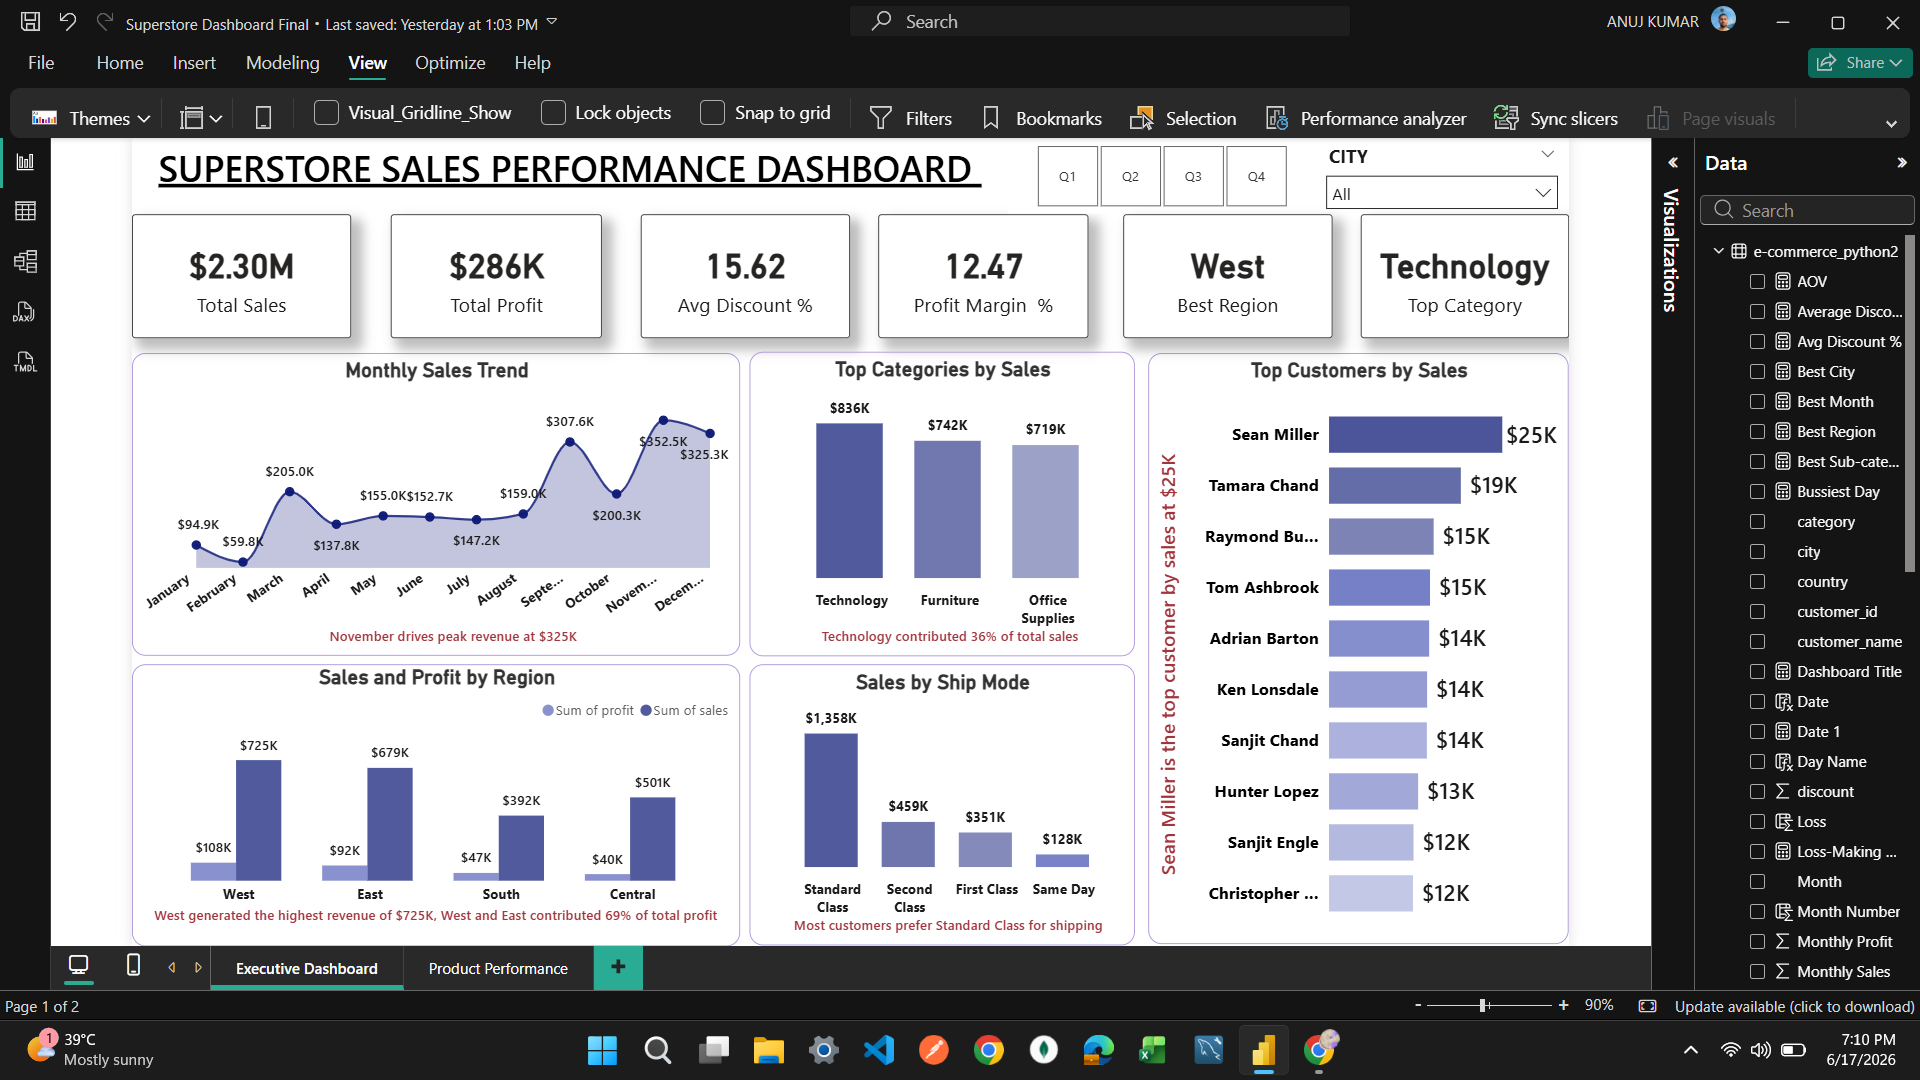

The dashboard page shown, as its layout file describes it:
{"tool":"powerbi","page":{"name":" Executive Dashboard","canvas":[1280,720],"ordinal":0},"visuals":[{"type":"areaChart","title":"Monthly Sales Trend","fields":{"Category":["e-commerce_python2.Month"],"Y":["Sum(e-commerce_python2.sales)"]},"box":[0,191.9,541.9,269.8],"z":0},{"type":"card","fields":{"Values":["e-commerce_python2.Avg Discount %"]},"box":[453.5,67.4,186,110.5],"z":1000},{"type":"card","fields":{"Values":["Sum(e-commerce_python2.sales)"]},"box":[0,67.5,195.1,110.4],"z":2000},{"type":"card","fields":{"Values":["e-commerce_python2.Profit Margin %"]},"box":[665.1,67.4,187.2,110.5],"z":3000},{"type":"card","fields":{"Values":["Sum(e-commerce_python2.profit)"]},"box":[230.2,67.4,188.4,110.5],"z":4000},{"type":"clusteredColumnChart","title":"Sales and Profit by Region","fields":{"Category":["e-commerce_python2.region"],"Y":["Sum(e-commerce_python2.profit)","Sum(e-commerce_python2.sales)"]},"box":[0,468.6,541.9,251.2],"z":5000},{"type":"textbox","box":[0,0,780.2,67.4],"z":6000},{"type":"clusteredBarChart","title":"Top Customers by Sales","fields":{"Y":["Sum(e-commerce_python2.sales)"],"Category":["e-commerce_python2.customer_name"]},"box":[904.7,191.9,374.4,526.7],"z":8000},{"type":"clusteredColumnChart","title":"Top Categories by Sales","fields":{"Category":["e-commerce_python2.category"],"Y":["Sum(e-commerce_python2.sales)"]},"box":[550,190.7,343,270.9],"z":9000},{"type":"slicer","fields":{"Values":["e-commerce_python2.Quarter"]},"box":[780.2,0,272.1,67.4],"z":10000},{"type":"slicer","fields":{"Values":["e-commerce_python2.city"]},"box":[1052.8,0,227,67.5],"z":11000},{"type":"clusteredColumnChart","title":"Sales  by Ship Mode","fields":{"Category":["e-commerce_python2.ship_mode"],"Y":["Sum(e-commerce_python2.sales)"]},"box":[550,468.6,343,250],"z":13000},{"type":"card","fields":{"Values":["e-commerce_python2.Best Region"]},"box":[882.6,67.4,186,110.5],"z":14000},{"type":"card","fields":{"Values":["e-commerce_python2.Top Category"]},"box":[1094.5,67.5,185.3,110.4],"z":15000}]}

Visuals, with their boxes on the page's 1280x720 design canvas (x1, y1, x2, y2). These are canvas units, not pixel positions in the 1920x1080 screenshot, which may show the page scaled, cropped or inside an application window:
"Monthly Sales Trend" areaChart: pyautogui.locateOnScreen(0, 192, 542, 462)
card - e-commerce_python2.Avg Discount %: pyautogui.locateOnScreen(454, 67, 640, 178)
card - Sum(e-commerce_python2.sales): pyautogui.locateOnScreen(0, 68, 195, 178)
card - e-commerce_python2.Profit Margin %: pyautogui.locateOnScreen(665, 67, 852, 178)
card - Sum(e-commerce_python2.profit): pyautogui.locateOnScreen(230, 67, 419, 178)
"Sales and Profit by Region" clusteredColumnChart: pyautogui.locateOnScreen(0, 469, 542, 720)
textbox: pyautogui.locateOnScreen(0, 0, 780, 67)
"Top Customers by Sales" clusteredBarChart: pyautogui.locateOnScreen(905, 192, 1279, 719)
"Top Categories by Sales" clusteredColumnChart: pyautogui.locateOnScreen(550, 191, 893, 462)
slicer - e-commerce_python2.Quarter: pyautogui.locateOnScreen(780, 0, 1052, 67)
slicer - e-commerce_python2.city: pyautogui.locateOnScreen(1053, 0, 1280, 68)
"Sales  by Ship Mode" clusteredColumnChart: pyautogui.locateOnScreen(550, 469, 893, 719)
card - e-commerce_python2.Best Region: pyautogui.locateOnScreen(883, 67, 1069, 178)
card - e-commerce_python2.Top Category: pyautogui.locateOnScreen(1094, 68, 1280, 178)
